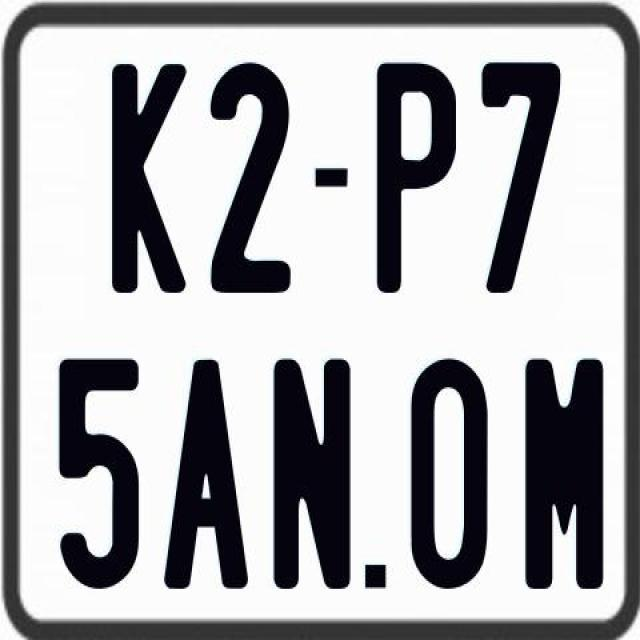0: (411, 357, 491, 589)
2: (211, 58, 297, 298)
5: (55, 355, 137, 587)
7: (480, 62, 566, 296)
A: (163, 357, 249, 592)
K: (109, 64, 187, 298)
M: (524, 355, 606, 592)
N: (272, 357, 350, 597)
P: (375, 61, 455, 291)
